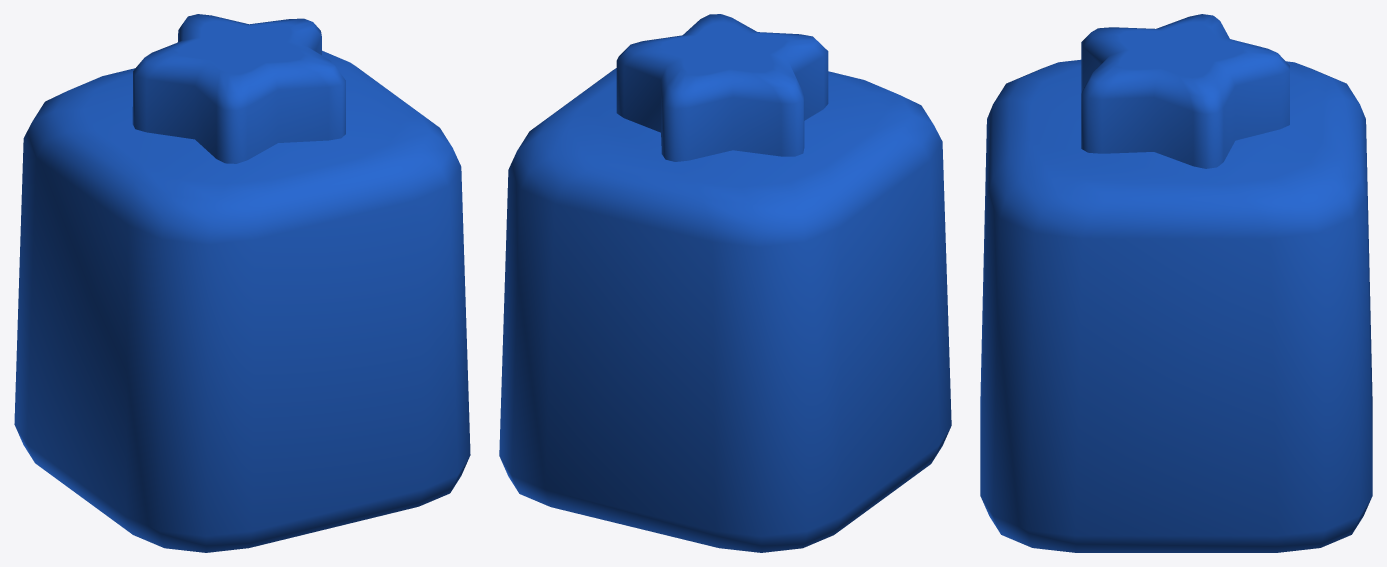
Rendered from block_star.fbx.
3 views of the same model, side by side, from view 1: azimuth 30°, elevation 25°; view 2: azimuth 150°, elevation 25°; view 3: azimuth 270°, elevation 25° (orthographic). The views are drawn at different scales.
Parts seen in each view (by area): view 1: block_star; view 2: block_star; view 3: block_star.
Boxes of the visible parts, left/top/right/bottom form: block_star: left=14, top=14, right=470, bottom=552; block_star: left=499, top=14, right=951, bottom=552; block_star: left=980, top=14, right=1372, bottom=552.
Bounding box in the file's own units: 98.38 × 98.38 × 120.
